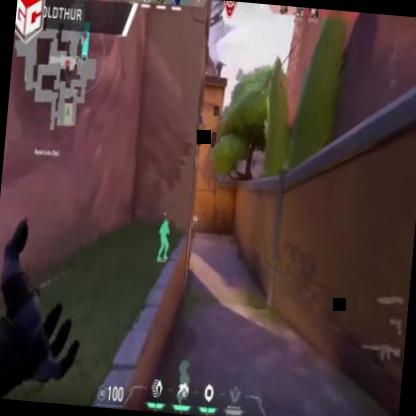enemy: (188, 212, 199, 245)
enemy_head: (193, 212, 197, 219)
